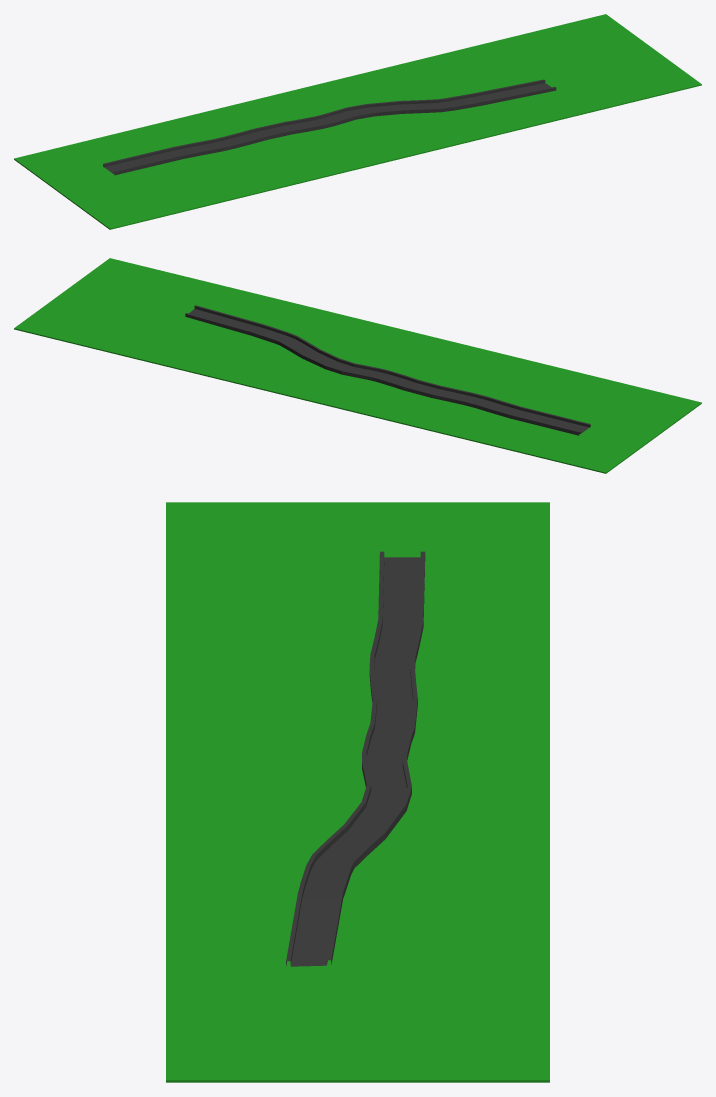
The model's file is Track.fbx.
3 renders of one model, top to bottom at view 1: azimuth 30°, elevation 25°; view 2: azimuth 150°, elevation 25°; view 3: azimuth 270°, elevation 25°, orthographic. The views are drawn at different scales.
Visible parts, largest first — view 1: Cube.001; view 2: Cube.001; view 3: Cube.001.
Part boxes in pixels (x1,y1,x2,y2): Cube.001: [14, 14, 701, 229]; Cube.001: [14, 258, 701, 473]; Cube.001: [166, 502, 549, 1082].
Size of the model in its own units: 24200 by 198 by 6792.
